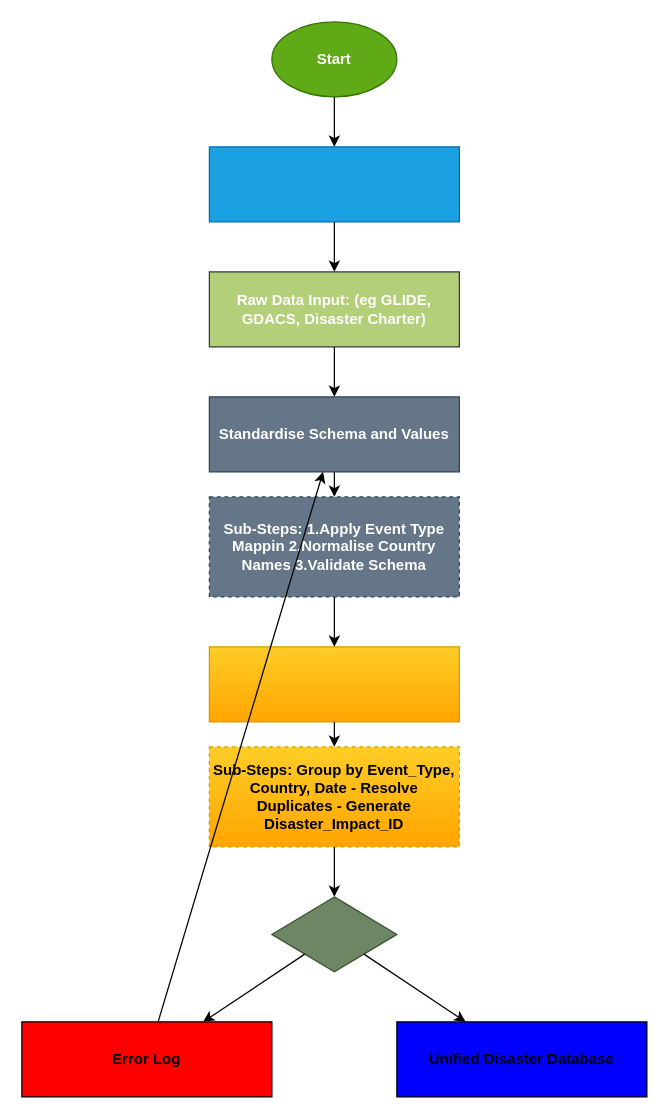
This 669x1119 diagram has some shape labels left out. Each missing label, with the centre of its shape:
Consolidate Records: by Key Fields: point 333,684
Extract Data: *from Sources: point 333,184
Validation: point 334,934
